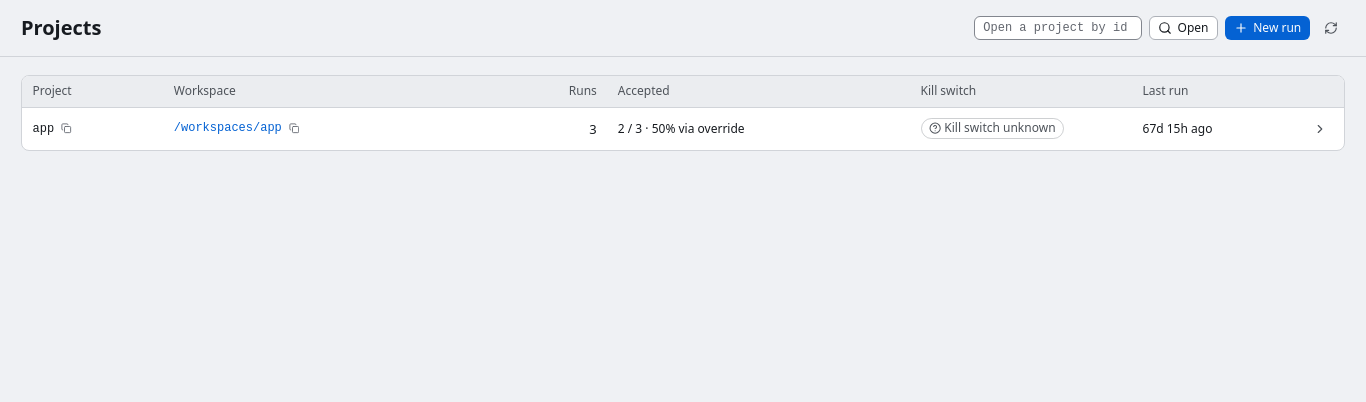
it: expanding a project row shows the stats tab
Expected: the text "app" is shown, [32, 121, 54, 137]
Click the button named "Show details for /workspaces/app" at (1320, 128), box [1306, 114, 1334, 142]
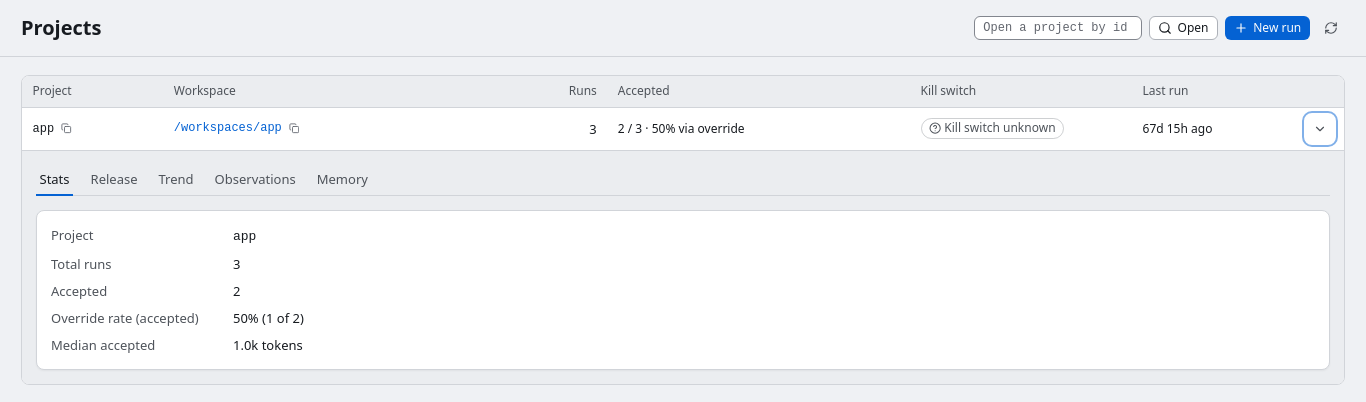
Expected: the text "Total runs" is shown, [51, 255, 112, 273]
